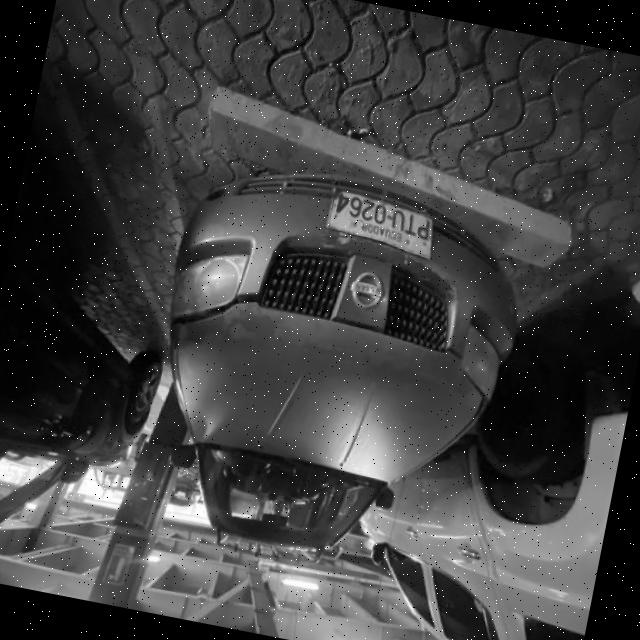Placa: (329, 192, 433, 258)
